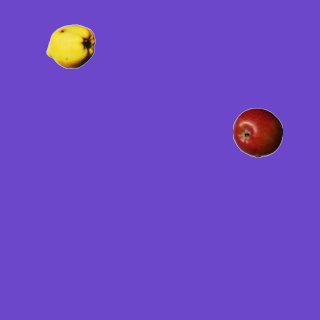Apple Braeburn: (232, 107, 282, 157)
Quince: (45, 21, 95, 71)
